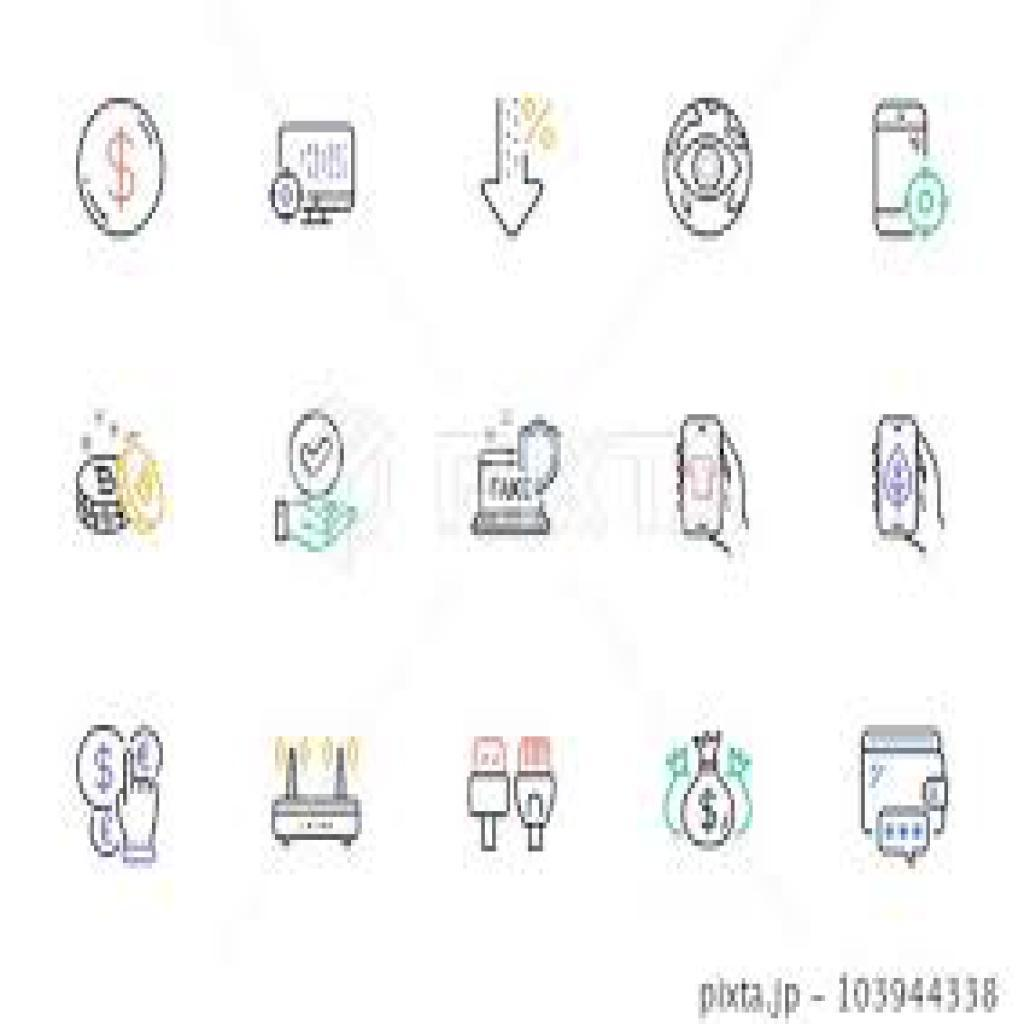icon: (250, 704, 380, 882), (56, 383, 175, 567), (64, 702, 180, 886), (456, 712, 580, 878), (649, 712, 772, 876), (852, 712, 961, 893), (66, 79, 172, 259), (651, 82, 760, 257), (267, 396, 377, 569), (665, 389, 766, 577), (462, 395, 574, 558), (261, 101, 365, 264), (864, 82, 959, 257), (470, 82, 569, 244), (856, 395, 948, 562)
